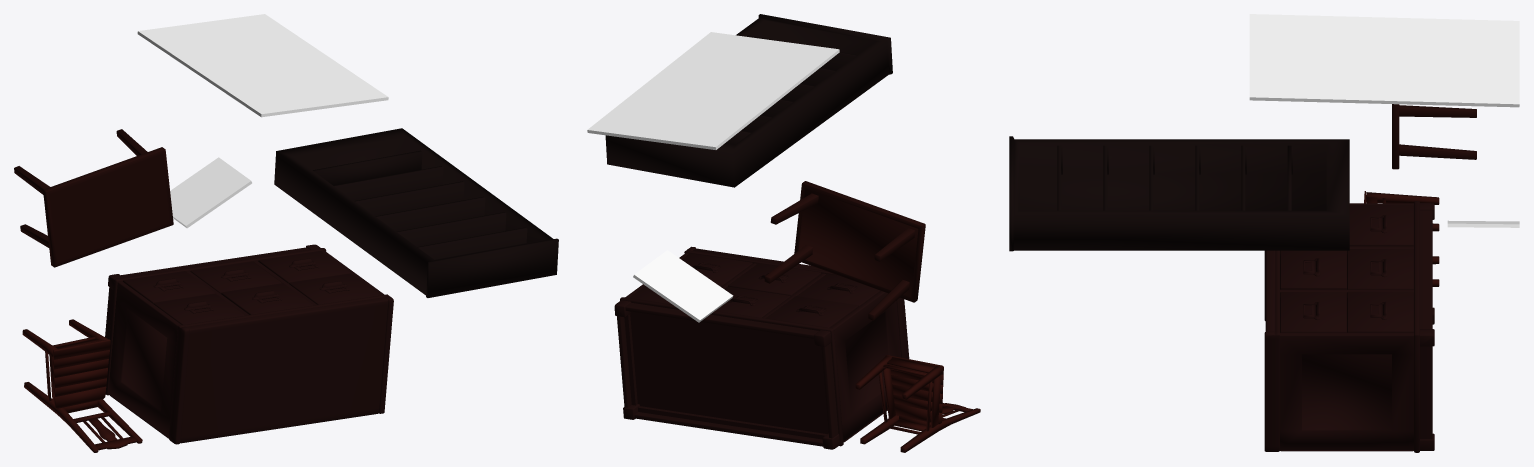
3 renders of one model, left to right at view 1: azimuth 30°, elevation 25°; view 2: azimuth 150°, elevation 25°; view 3: azimuth 270°, elevation 25°, orthographic. The views are drawn at different scales.
Visible parts, largest first — view 1: diffuse_cabinet_01, diffuse_shelf_03, glass_door_02, diffuse_table_02, diffuse_chair_04, glass_partition_01; view 2: diffuse_cabinet_01, glass_door_02, diffuse_shelf_03, diffuse_table_02, diffuse_chair_04, glass_partition_01; view 3: diffuse_cabinet_01, diffuse_shelf_03, glass_door_02, diffuse_table_02, diffuse_chair_04, glass_partition_01.
Boxes of the visible parts, x1,y1,x2,y2 form: diffuse_cabinet_01: [105, 244, 393, 444]; diffuse_shelf_03: [274, 128, 558, 297]; glass_door_02: [137, 14, 388, 117]; diffuse_table_02: [14, 129, 173, 267]; diffuse_chair_04: [22, 319, 142, 452]; glass_partition_01: [170, 157, 251, 228]; diffuse_cabinet_01: [614, 246, 909, 449]; glass_door_02: [587, 32, 839, 149]; diffuse_shelf_03: [605, 14, 892, 187]; diffuse_table_02: [764, 181, 925, 320]; diffuse_chair_04: [855, 355, 980, 452]; glass_partition_01: [633, 250, 733, 322]; diffuse_cabinet_01: [1264, 201, 1434, 452]; diffuse_shelf_03: [1009, 136, 1349, 251]; glass_door_02: [1249, 14, 1519, 107]; diffuse_table_02: [1392, 104, 1476, 169]; diffuse_chair_04: [1364, 191, 1439, 286]; glass_partition_01: [1447, 220, 1519, 227].
Size of the model in its own units: 242 by 227 by 284.
